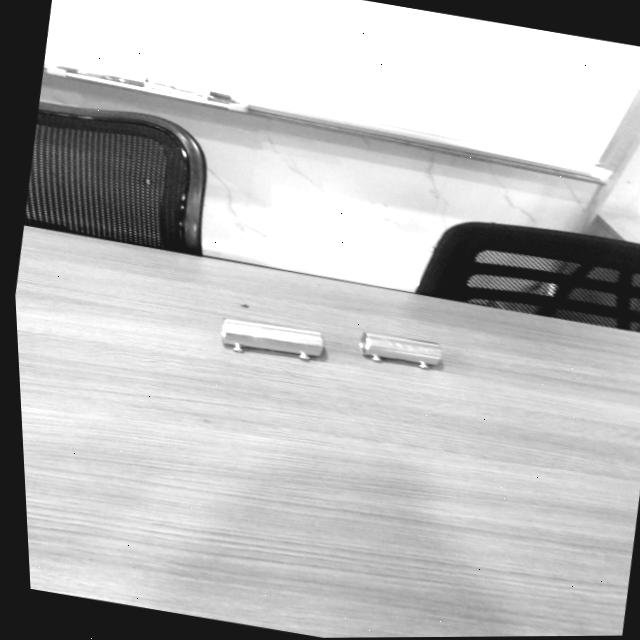Co_Lon: (219, 319, 326, 362)
Co_Nho: (357, 332, 444, 371)
